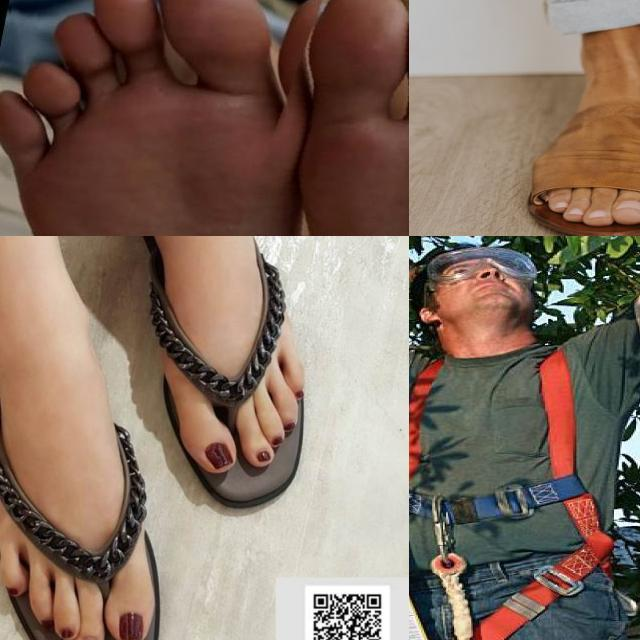Barefoots: (0, 0, 409, 236), (156, 0, 409, 236)
Harness: (409, 349, 614, 640)
Sandals: (0, 236, 321, 640), (526, 70, 640, 236)
